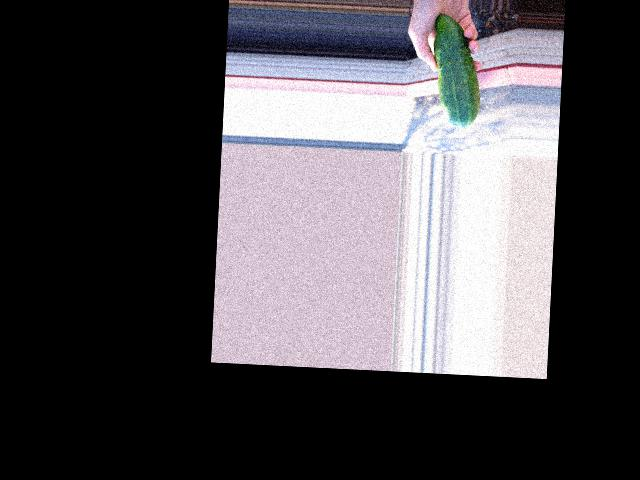cucumber: (430, 14, 484, 127)
